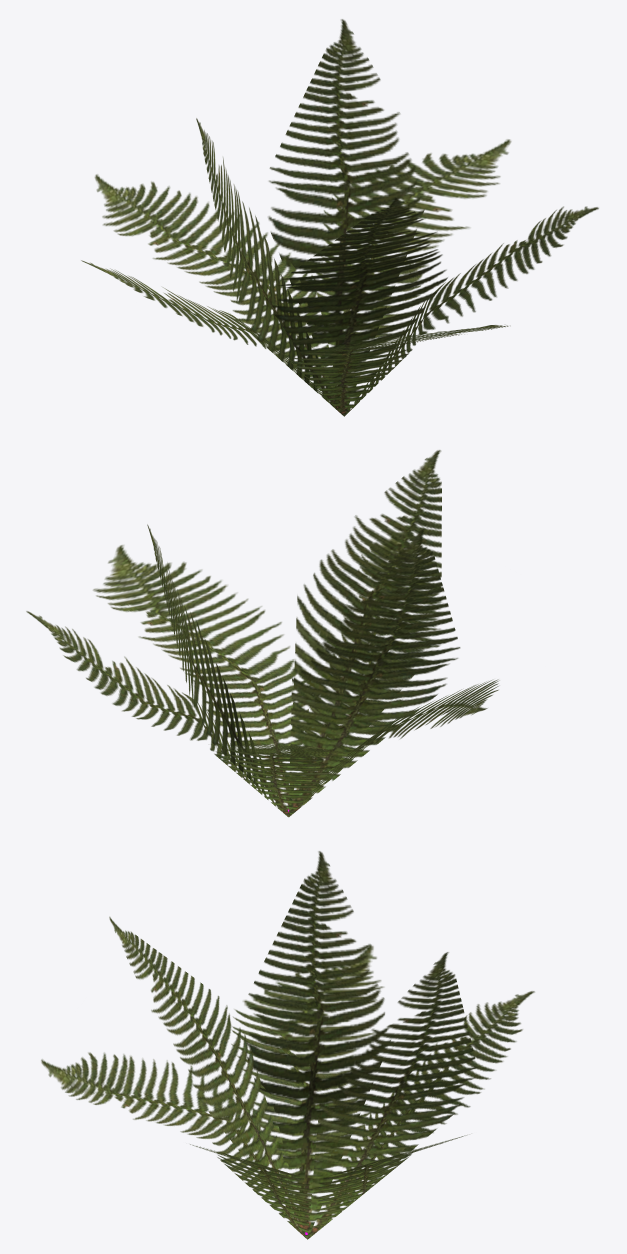
File: mveg_b.glb
3 views of the same model, one above another, from view 1: azimuth 30°, elevation 25°; view 2: azimuth 150°, elevation 25°; view 3: azimuth 270°, elevation 25° (orthographic). The views are drawn at different scales.
Visible parts, largest first — view 1: 01 Mesh0; view 2: 01 Mesh0; view 3: 01 Mesh0.
Boxes of the visible parts, x1,y1,x2,y2 form: 01 Mesh0: (81,19,598,416); 01 Mesh0: (26,450,499,817); 01 Mesh0: (41,851,534,1239).
Bounding box in the file's own units: 3.66 × 2.3 × 3.84.
2 materials, 1 textured.
